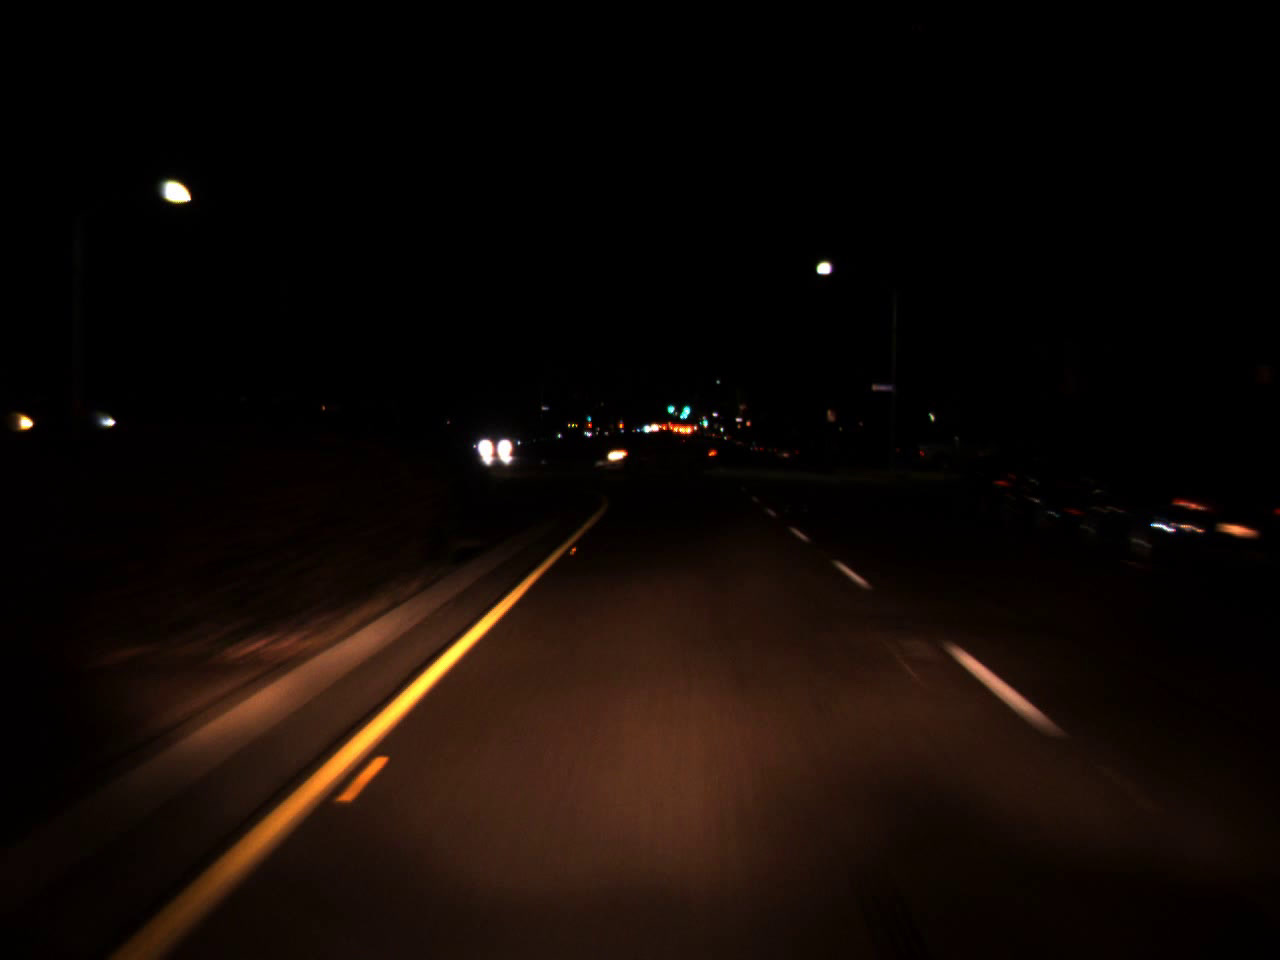go: (678, 396, 690, 417), (665, 398, 675, 416), (701, 414, 708, 426)
